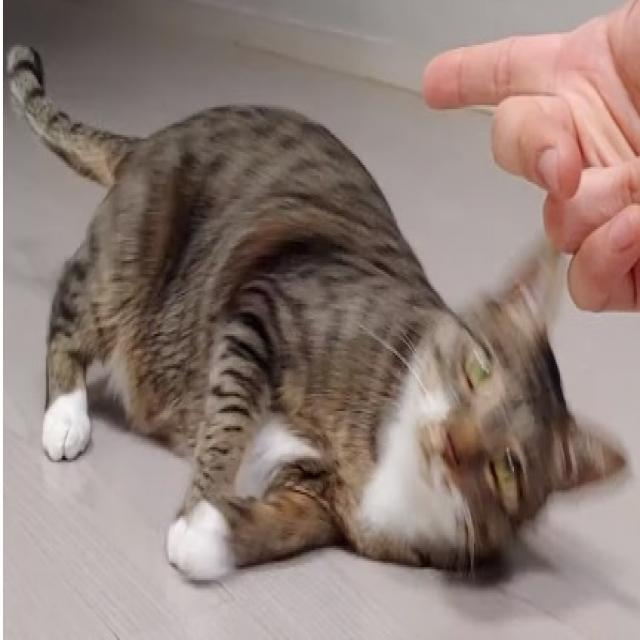cat: (3, 43, 630, 598)
